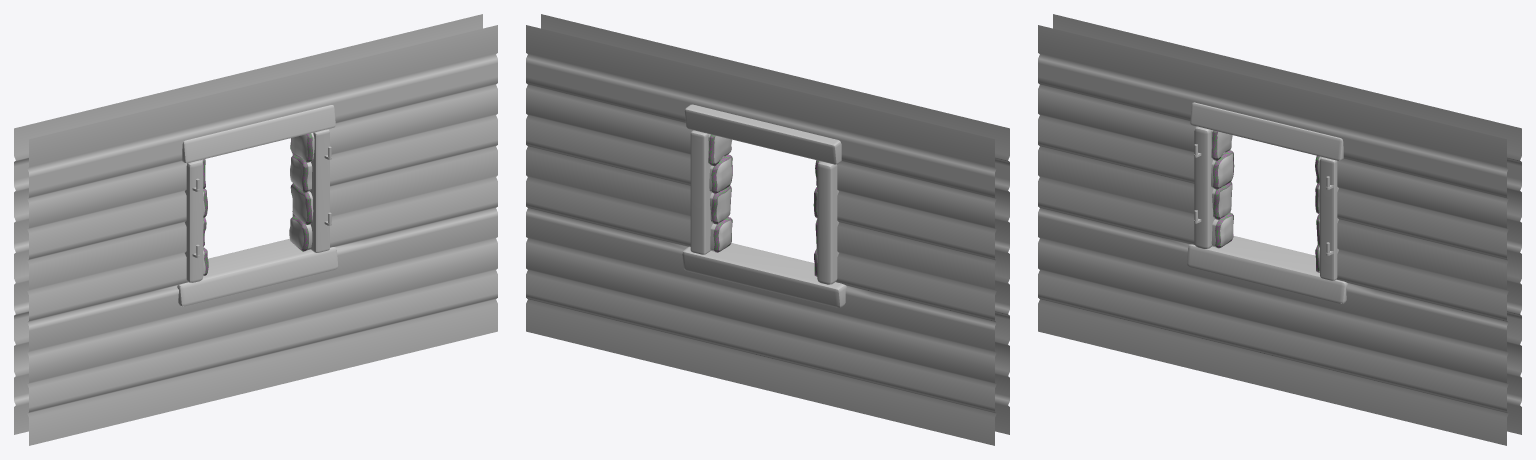
The model's file is SM_wallWindow4m_a1.fbx.
The picture shows the model from 3 angles, left to right: view 1: azimuth 30°, elevation 25°; view 2: azimuth 150°, elevation 25°; view 3: azimuth 330°, elevation 25°; orthographic projection.
Visible parts, largest first — view 1: SM_wallWindow4m_a1_LOD0; view 2: SM_wallWindow4m_a1_LOD0; view 3: SM_wallWindow4m_a1_LOD0.
Part boxes in pixels (x1,y1,x2,y2): SM_wallWindow4m_a1_LOD0: (14,14,497,445); SM_wallWindow4m_a1_LOD0: (526,14,1009,445); SM_wallWindow4m_a1_LOD0: (1038,14,1521,445).
Size of the model in its own units: 400 by 41.13 by 250.
3 materials, 1 textured.
